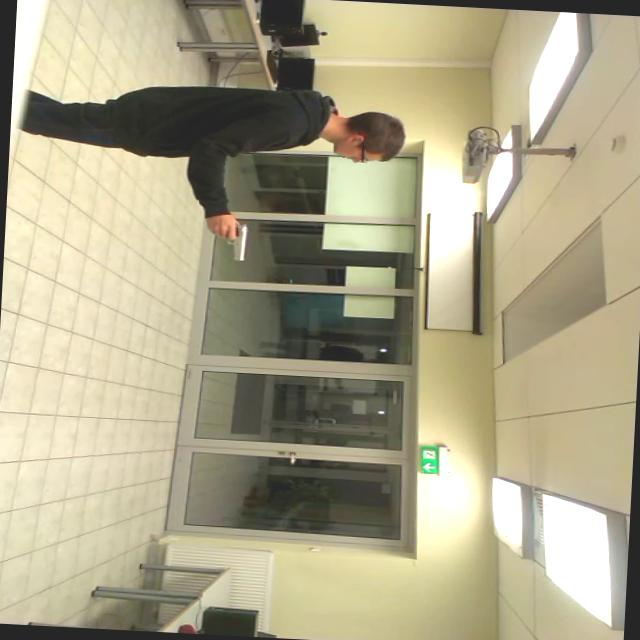handgun: (207, 217, 260, 268)
